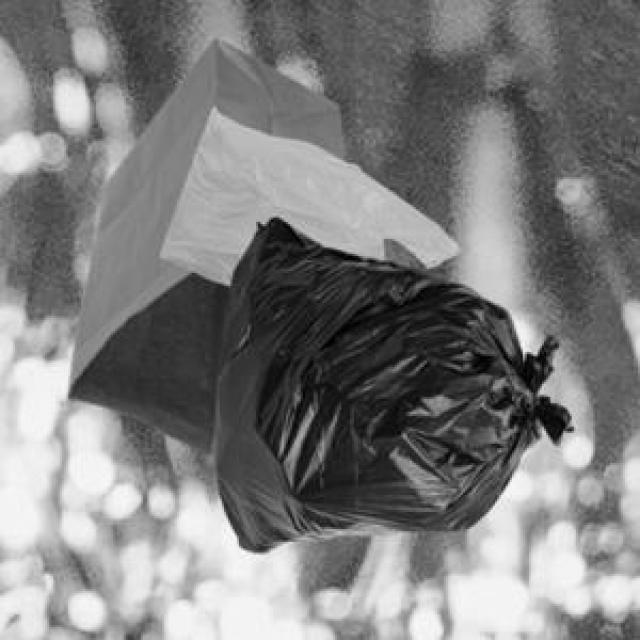miscellaneous trash: (211, 213, 570, 550)
paper: (64, 36, 339, 450)
